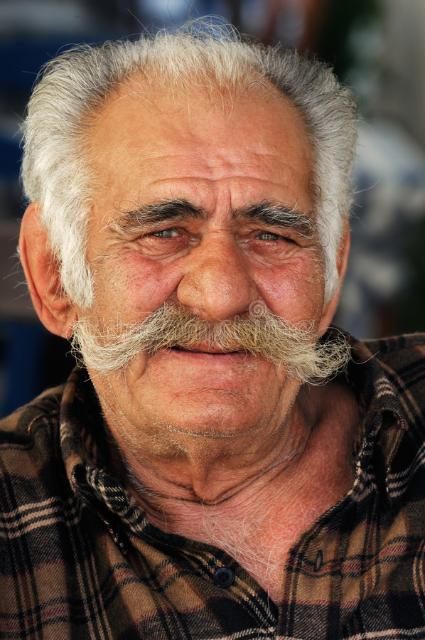crows_feet: (100, 220, 132, 256), (296, 235, 318, 268)
forehead: (148, 162, 288, 196)
gummy_smile: (244, 272, 278, 318), (154, 264, 182, 314)
sad_smile: (264, 364, 288, 416), (135, 344, 153, 384)
